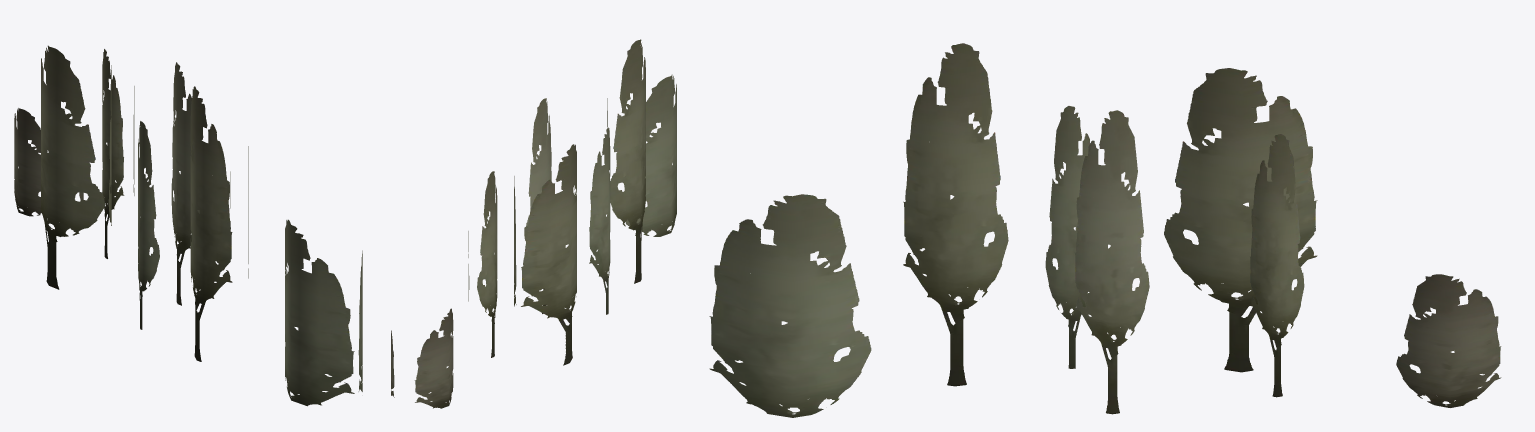
3 renders of one model, left to right at view 1: azimuth 30°, elevation 25°; view 2: azimuth 150°, elevation 25°; view 3: azimuth 270°, elevation 25°, orthographic. The views are drawn at different scales.
Visible parts, largest first — view 1: body0_model0_lod0_mesh0; view 2: body0_model0_lod0_mesh0; view 3: body0_model0_lod0_mesh0.
Part boxes in pixels (box(x1,y1,x2,y2)): body0_model0_lod0_mesh0: box(14, 45, 362, 406); body0_model0_lod0_mesh0: box(391, 39, 676, 408); body0_model0_lod0_mesh0: box(709, 43, 1501, 417).
Bounding box in the file's own units: 33.2 × 66.79 × 143.
1 material, 1 textured.
